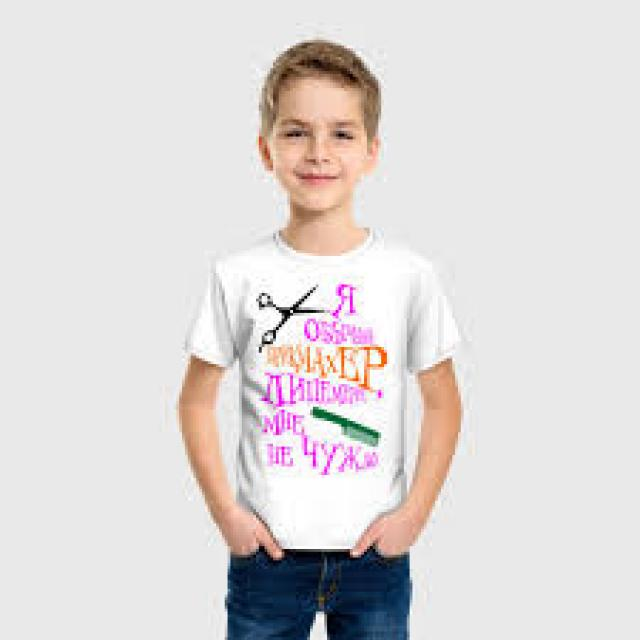Shirt: (144, 210, 472, 561)
